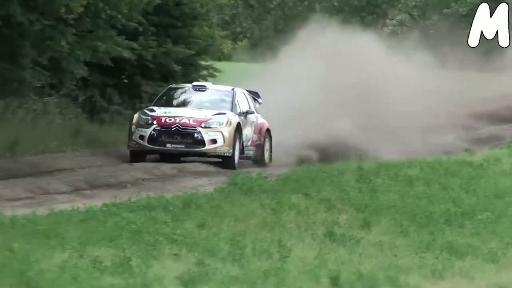CAR: (125, 60, 283, 179)
